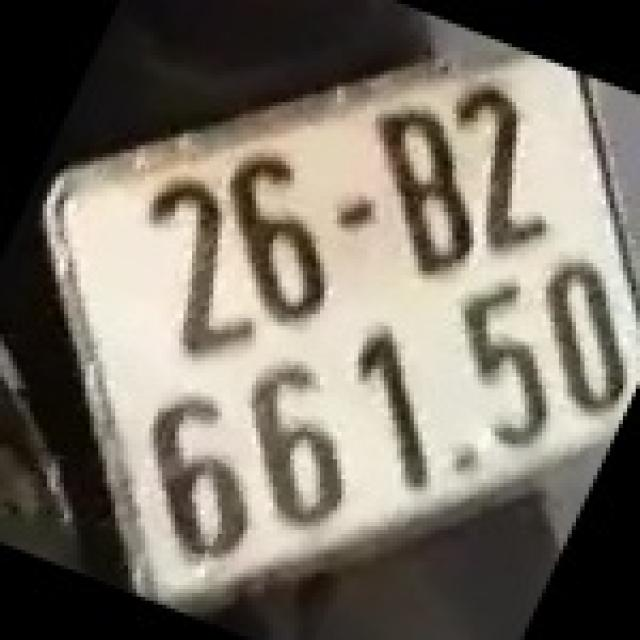0: (548, 259, 630, 416)
1: (354, 330, 435, 491)
2: (141, 175, 256, 355), (458, 84, 552, 253)
5: (461, 278, 550, 452)
6: (230, 151, 328, 324), (150, 391, 248, 564), (250, 361, 348, 526)
B: (373, 104, 476, 277)
